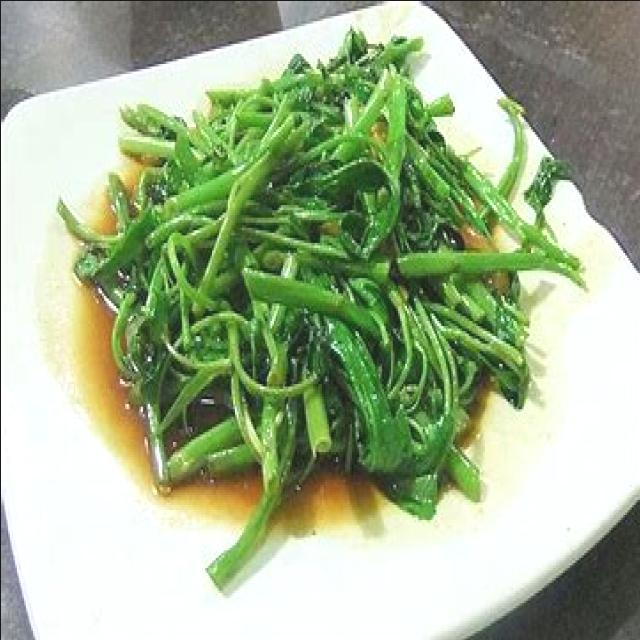tumis kangkung: (55, 25, 592, 602)
